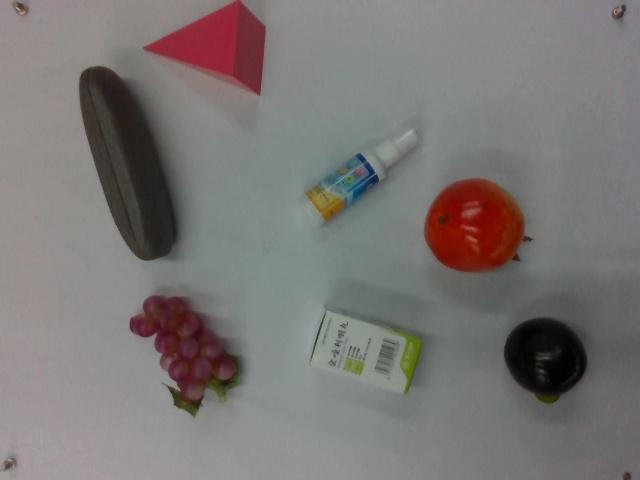carton: (303, 299, 426, 399)
detergent: (294, 122, 426, 231)
glassescase: (79, 65, 183, 264)
grape: (128, 291, 242, 415)
mangosteen: (502, 311, 589, 408)
pomegranate: (422, 177, 535, 275)
pyramid: (139, 1, 282, 93)
